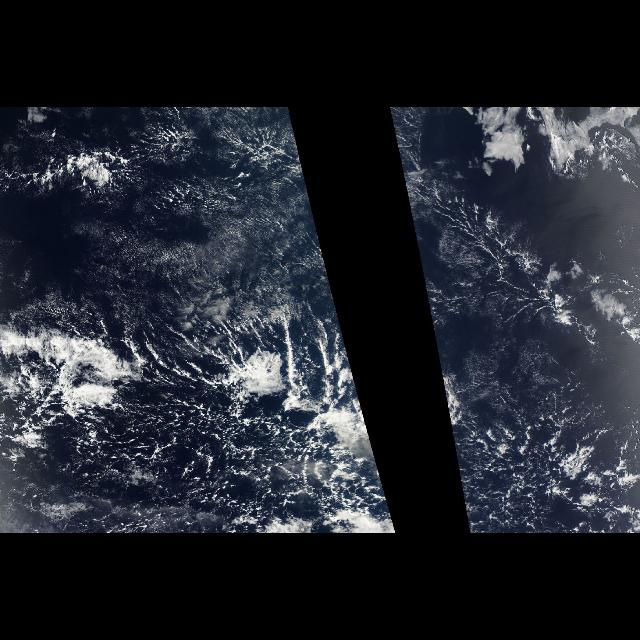Fish: (402, 124, 636, 490), (0, 296, 388, 490)
Gravel: (0, 194, 398, 532), (441, 368, 639, 532)
Sugar: (93, 108, 343, 328)
